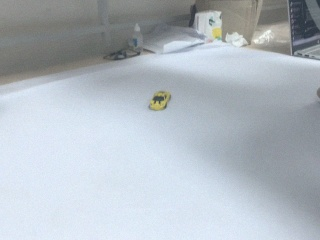toy_car: (149, 91, 171, 110)
